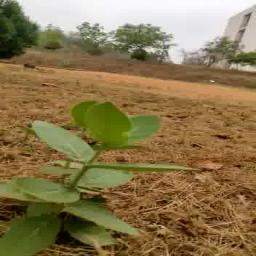CALOTROPIS: (11, 96, 158, 248)
